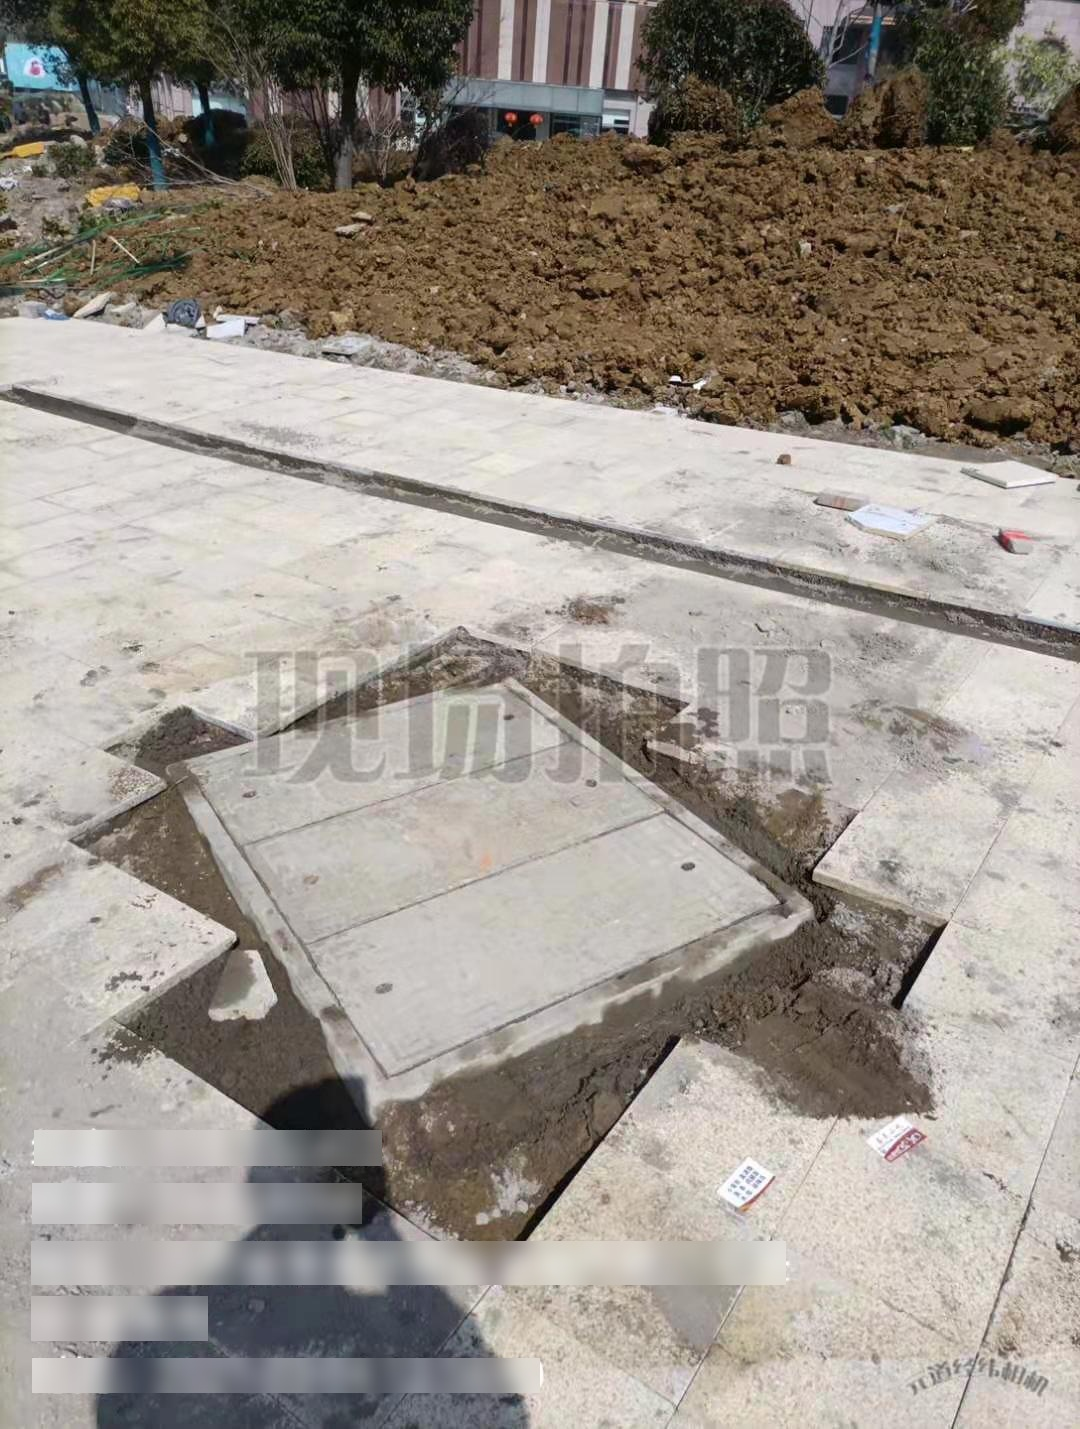good: (164, 674, 815, 1118)
